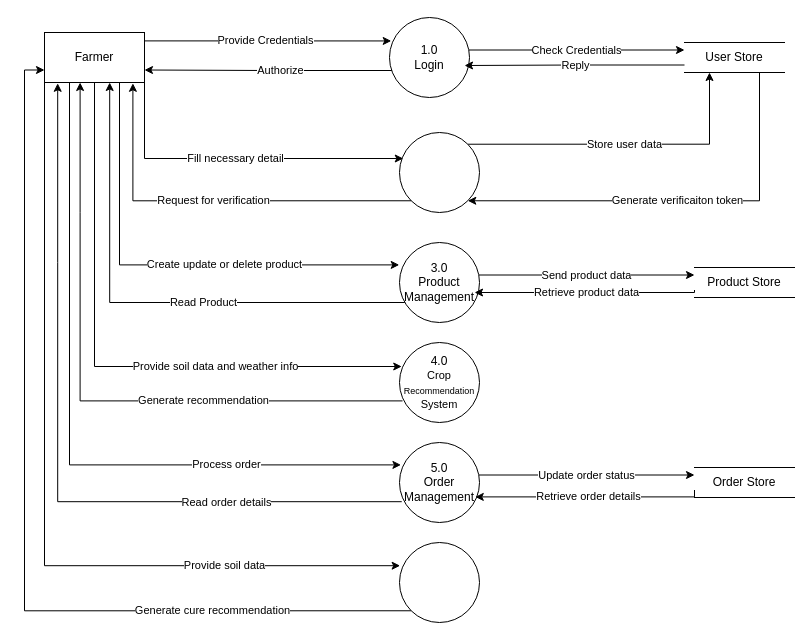
Some shapes in this 812 by 640 pixel diagram are drawn without their labels. The shapes that lost their labels are listed below. From the top down, each one's centre as x and y in pixels, then its label:
the point at 439,172: 2.0 Register
the point at 439,582: 6.0 Cure Recommendation System
